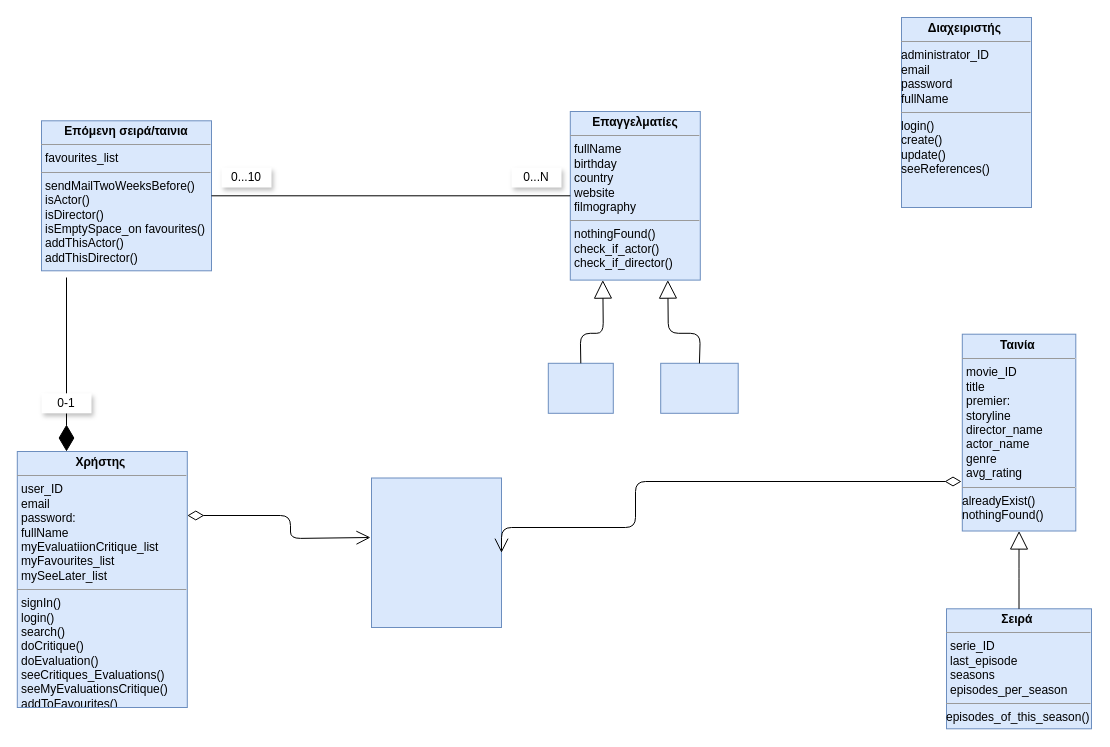
This 1110x747 diagram has some shape labels left out. The centre of each missing label's shape, as x and y in pixels:
"Βαθμολογία user_ID movie/serie_ID name date critique rating seeEvaluations()" goes at point (436, 552).
"Ηθοποιός actor_ID" goes at point (580, 387).
"Σκηνοθέτης Director_ID" goes at point (699, 387).
